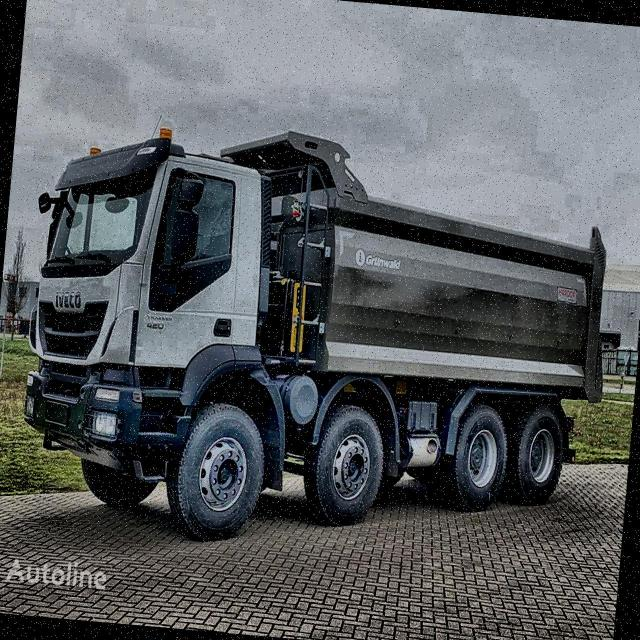dump_truck: (8, 105, 626, 539)
